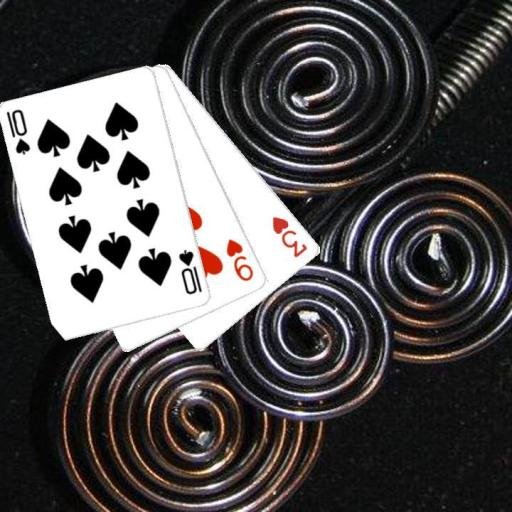10S: (176, 246, 204, 297), (4, 106, 32, 156)
3H: (269, 213, 309, 260)
9H: (224, 235, 256, 283)
